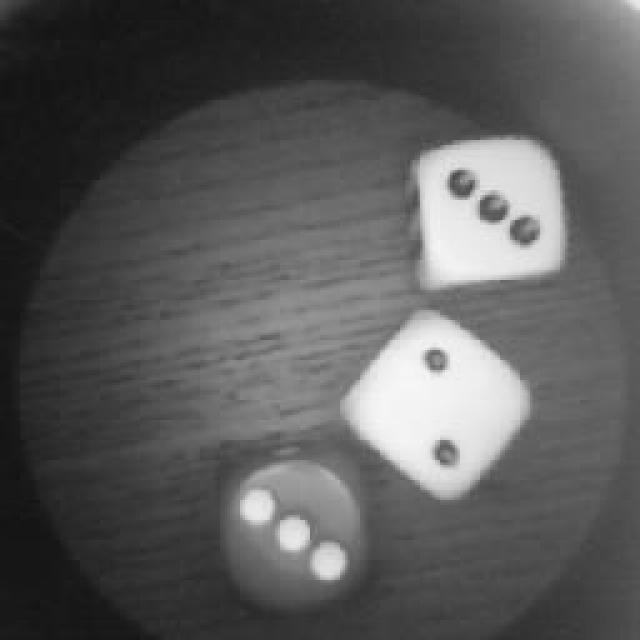dice_2: (337, 308, 535, 508)
dice_3: (205, 430, 383, 615), (405, 128, 573, 300)
